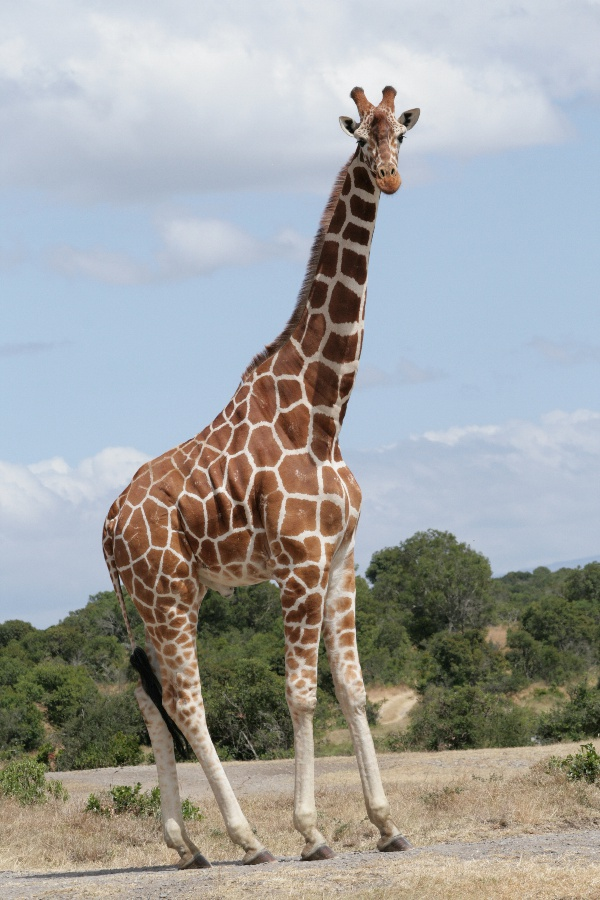giraffe: (90, 65, 435, 866)
